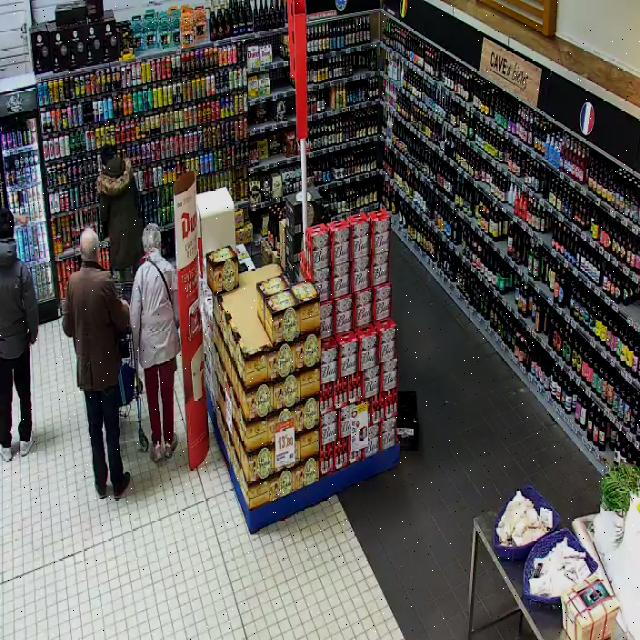person: (63, 228, 130, 498), (131, 223, 179, 460), (0, 208, 38, 460), (96, 146, 143, 270)
